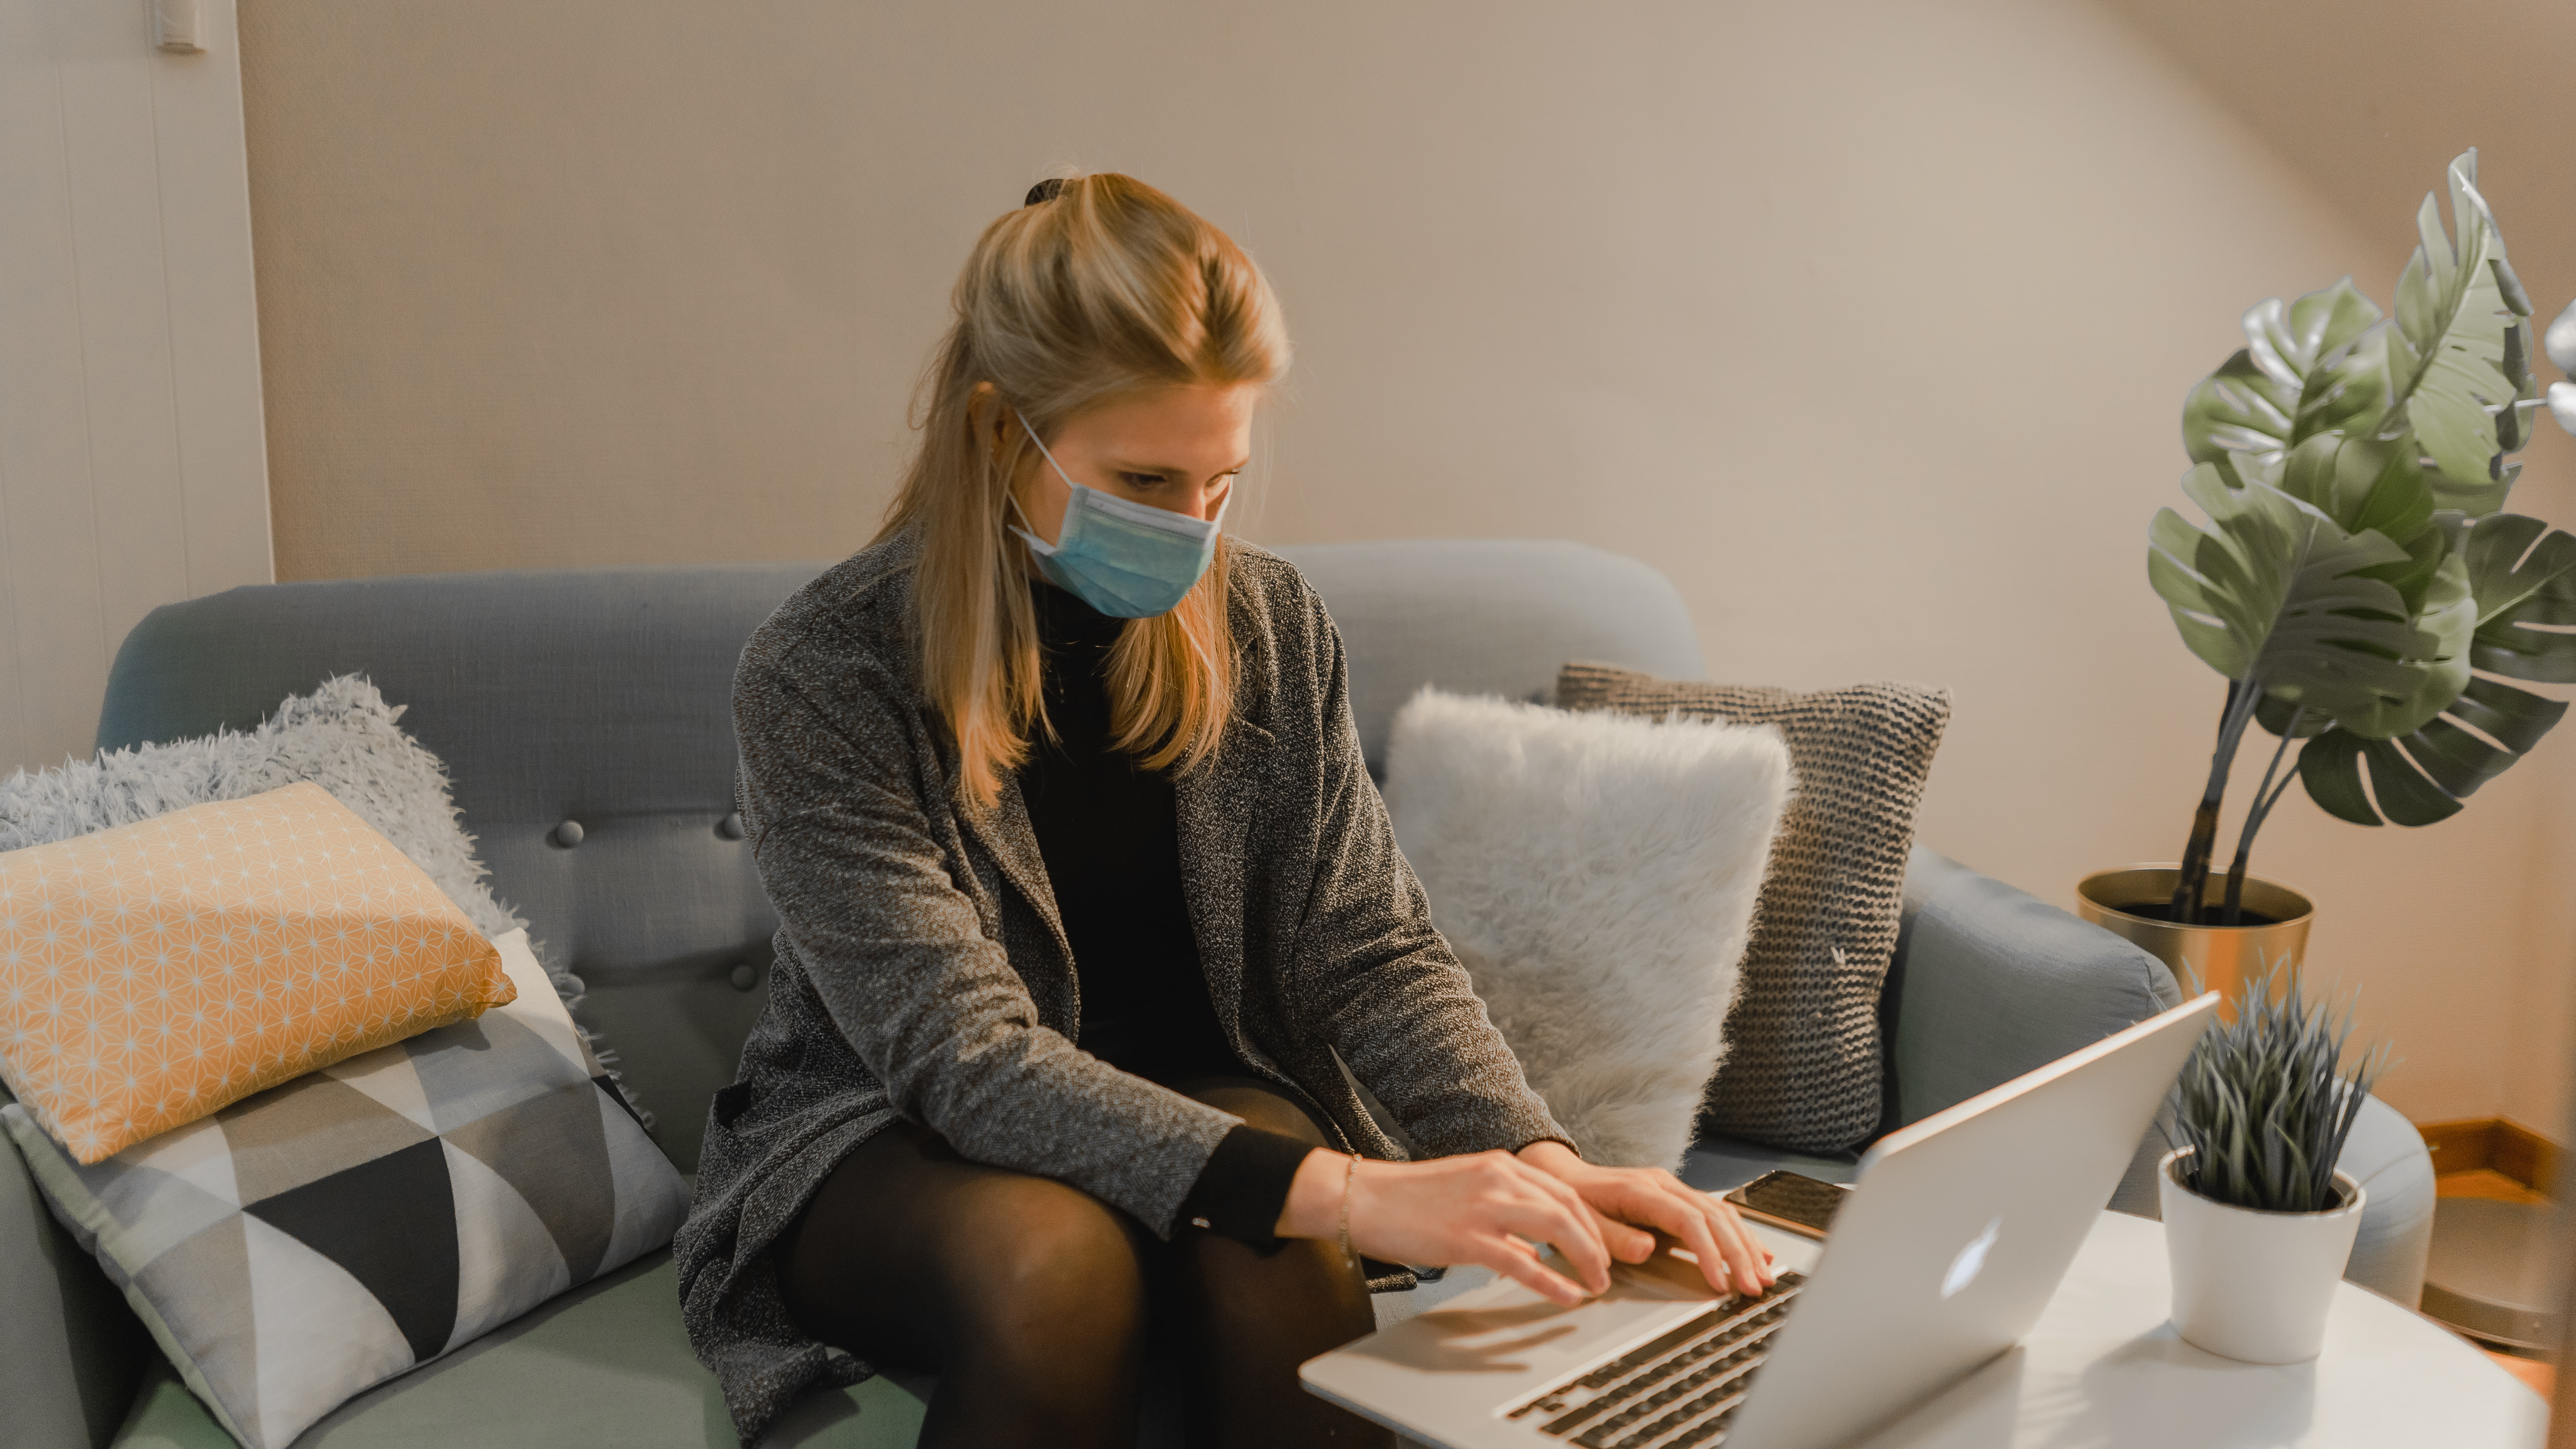mask: (1023, 481, 1230, 647)
person: (668, 165, 1667, 1410)
